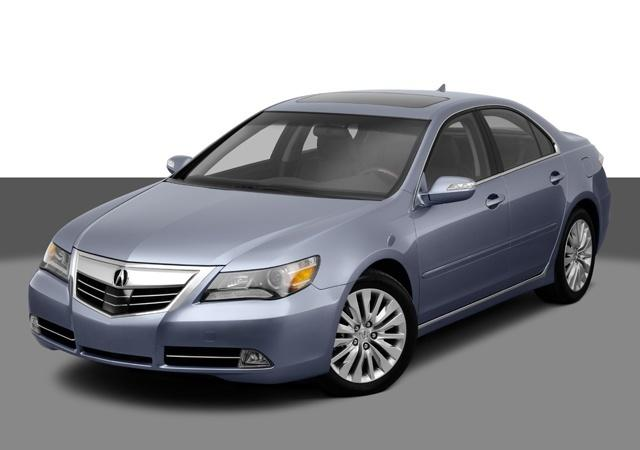car: (29, 80, 612, 395)
